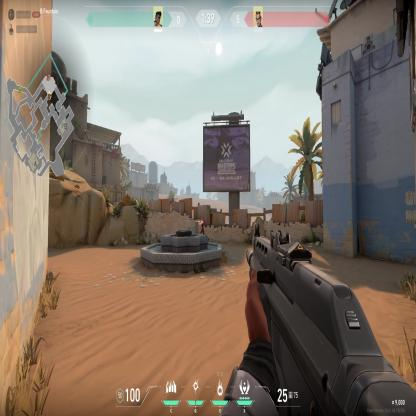enemy: (198, 217, 204, 234)
